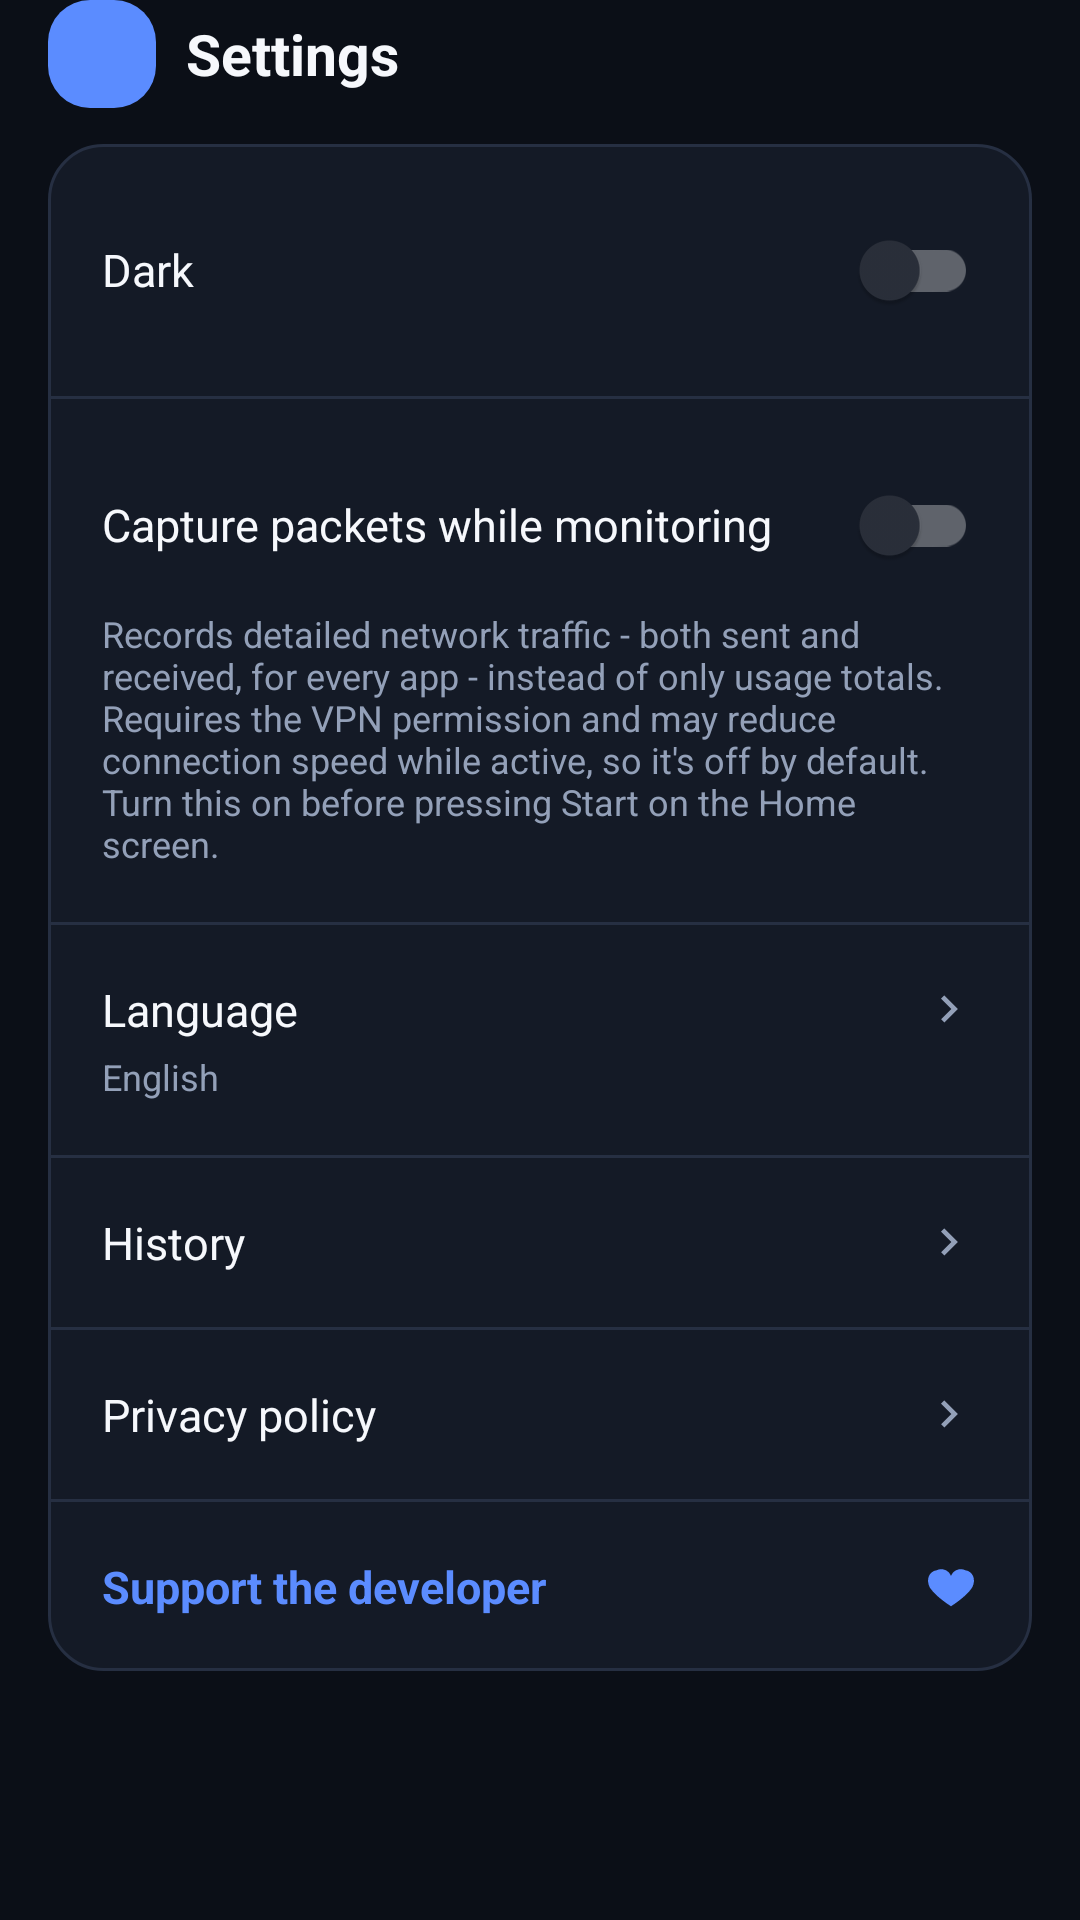

Screen size 1080px x 1920px. Icon name, then its box in pixels as bbox=[x1, y1, x2, y2]:
chevron right: bbox=[941, 995, 958, 1023], bbox=[941, 1228, 958, 1256], bbox=[941, 1400, 958, 1428]
donate: bbox=[928, 1569, 974, 1606]
